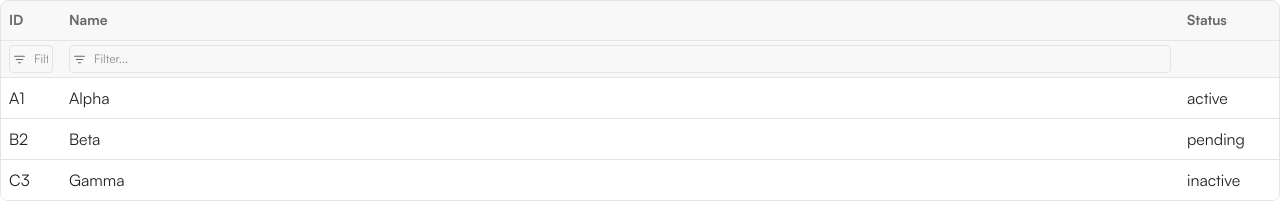
Test: Table — filter row › filters data when typing in filter row
Type "beta" into the field named "Filter Name" at [620, 59], box [69, 45, 1171, 73]
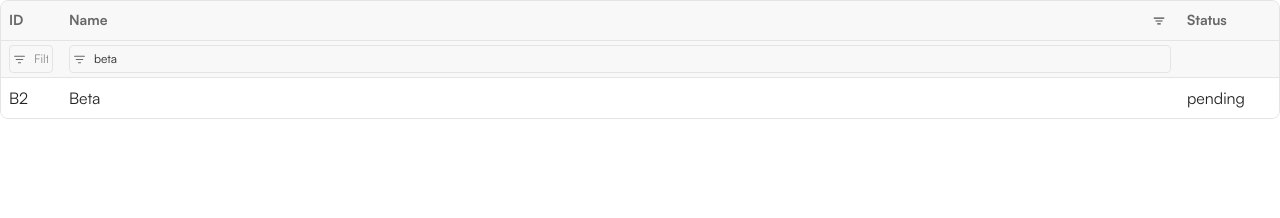
Result: the text "Beta" is shown at [69, 86, 100, 110]
Result: the text "Alpha" is gone
